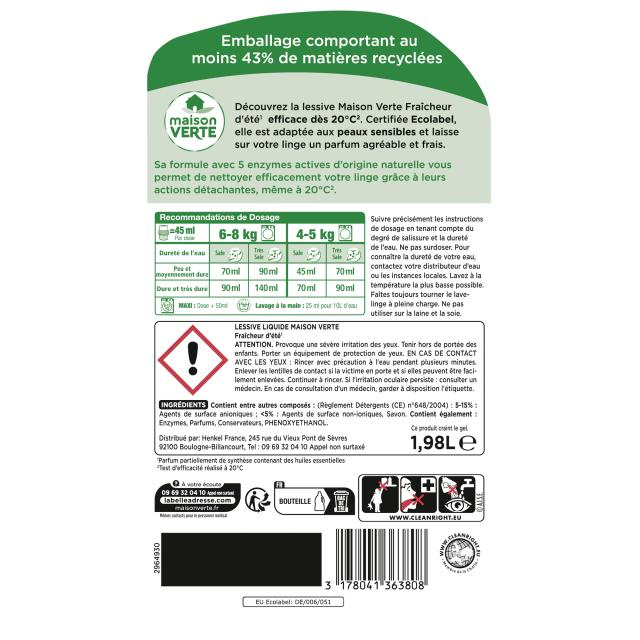GHS_Symbol_EXCLAMATION_MARK: (158, 326, 228, 396)
